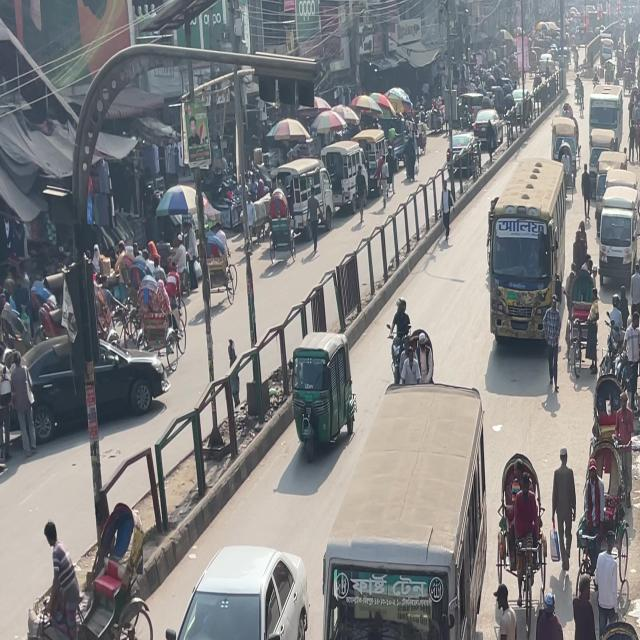bicycle: (9, 586, 156, 640)
bus: (319, 542, 466, 640), (490, 198, 558, 338), (584, 86, 628, 158)
car: (152, 550, 313, 640), (24, 347, 171, 433)
